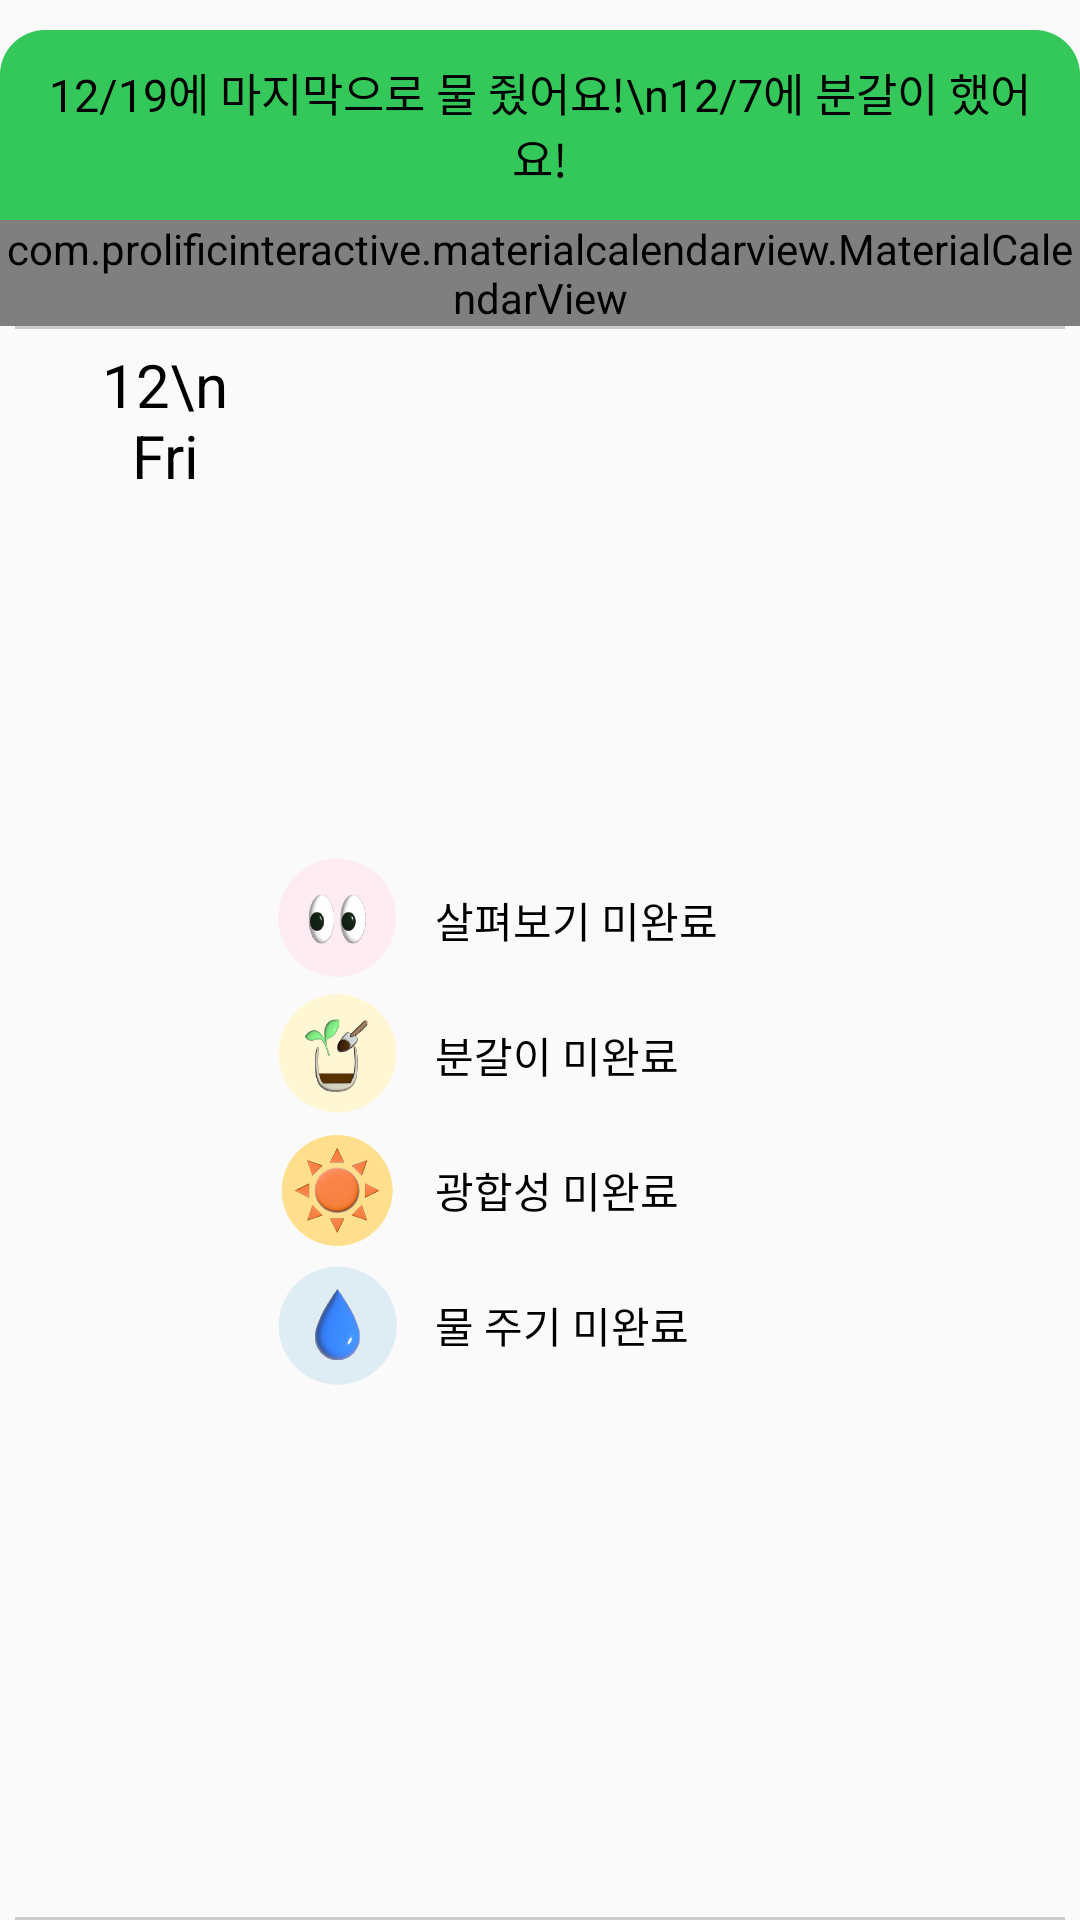

Named icons in this screenshot (1080px×1920px) and their centers, (x,y):
repotting: (337,1053)
sunlight: (337,1190)
watering: (338,1325)
